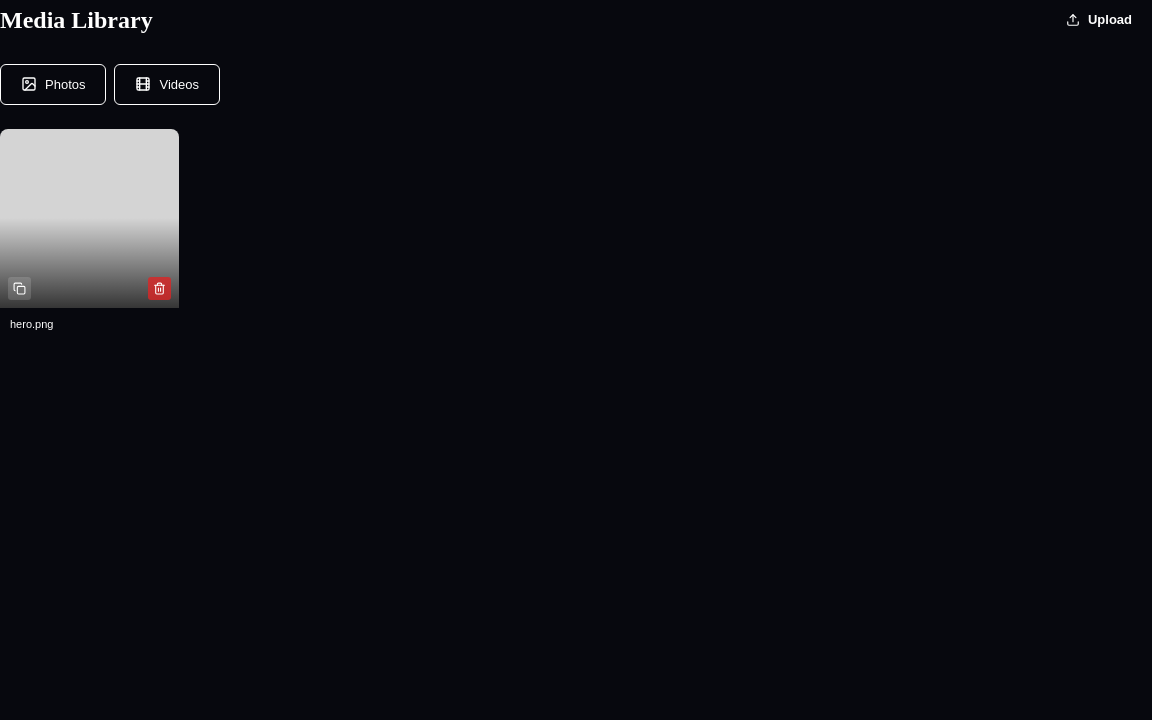
it: MediaLibrary delete › cancel closes the dialog without deleting
Click the button named "Delete hero.png" at (159, 288), box [148,277,171,300]
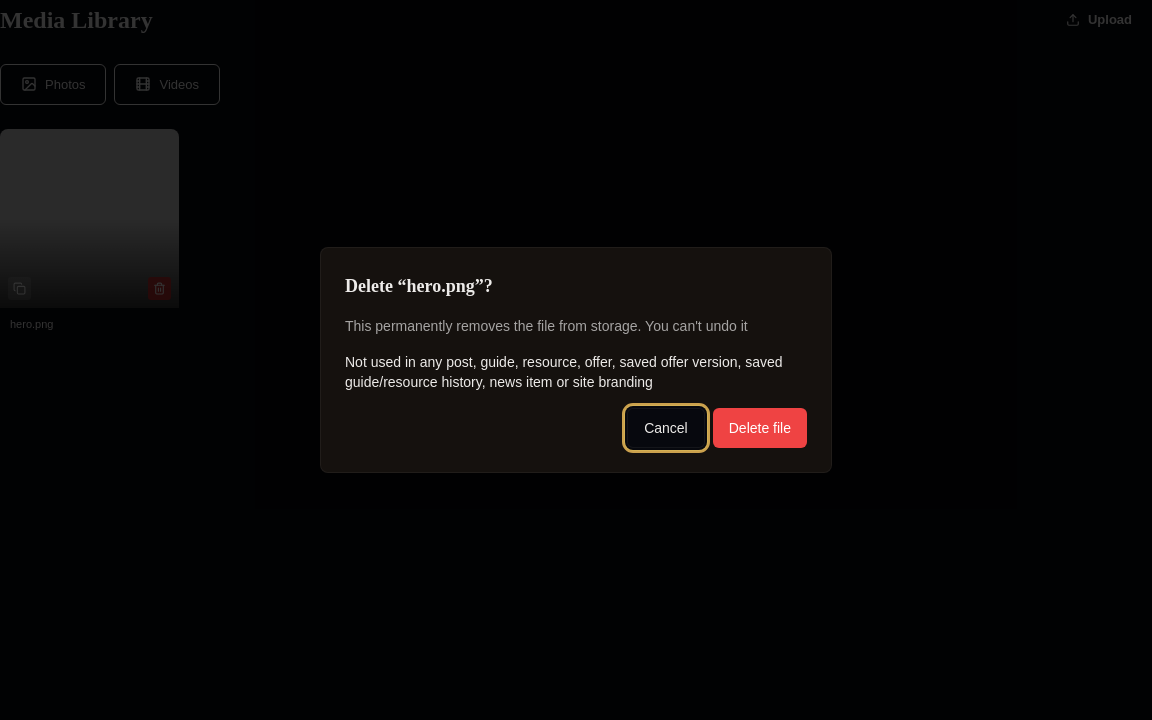
Click the button "Cancel" at (666, 428), box [627,408,705,448]
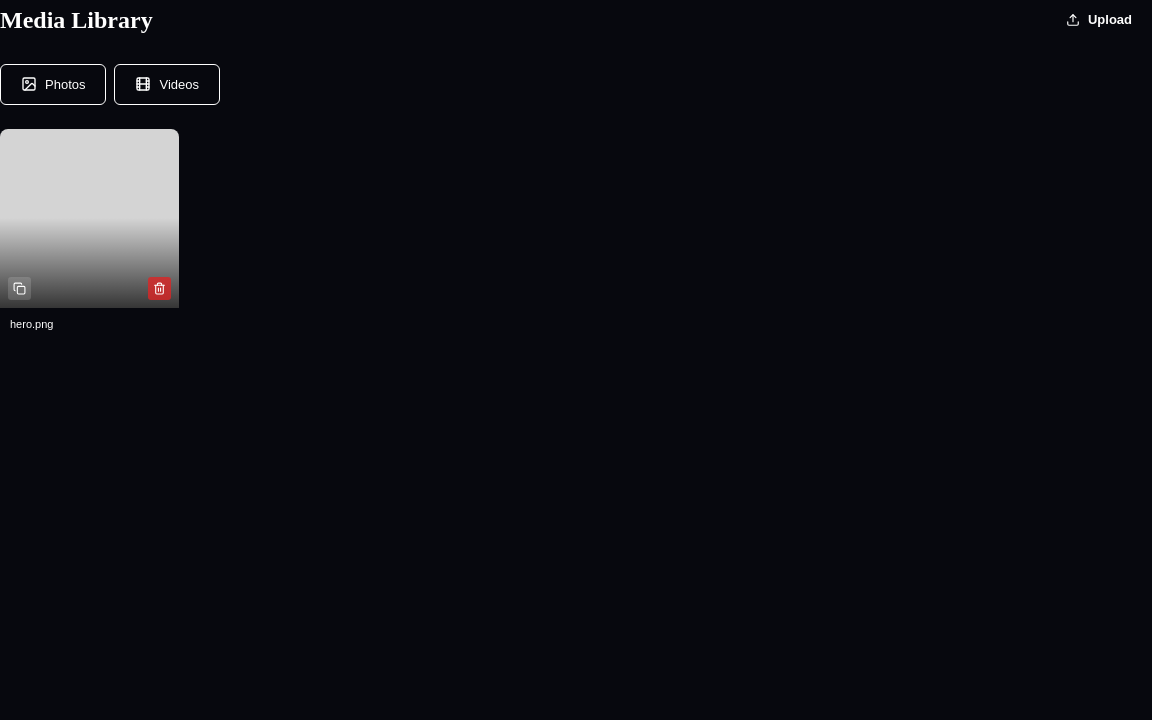
Expected: the text "hero.png" is shown, [10,318,53,330]
Expected: the dialog is gone
